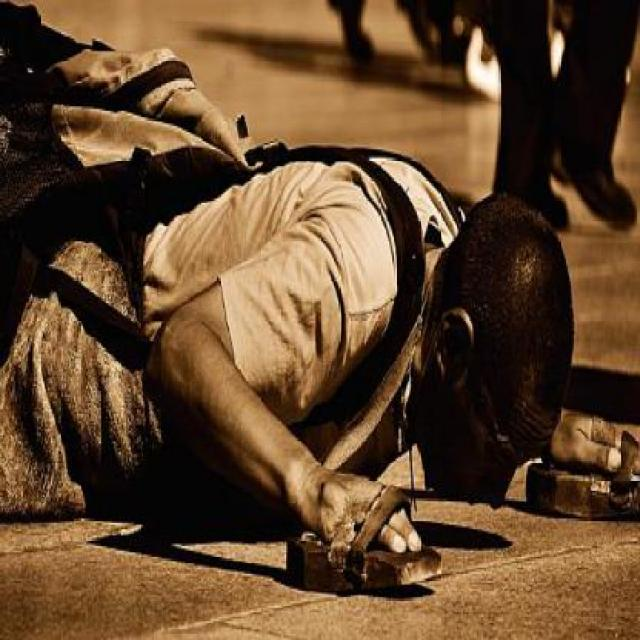fall: (0, 115, 638, 586)
